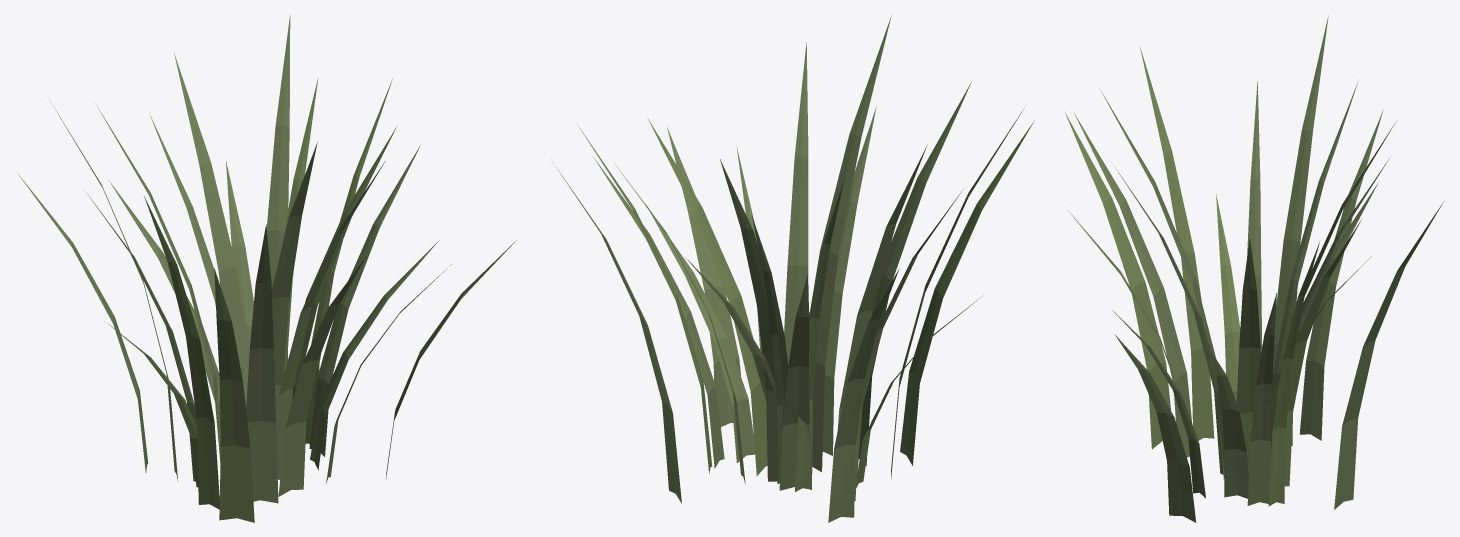
File: NA_Grass_2.glb
3 views of the same model, side by side, from view 1: azimuth 30°, elevation 25°; view 2: azimuth 150°, elevation 25°; view 3: azimuth 270°, elevation 25° (orthographic). The views are drawn at different scales.
Parts seen in each view (by area): view 1: NA_Grass_2; view 2: NA_Grass_2; view 3: NA_Grass_2.
Part boxes in pixels (<box>): NA_Grass_2: <box>16,15,516,522</box>; NA_Grass_2: <box>553,15,1034,522</box>; NA_Grass_2: <box>1064,15,1443,522</box>.
Size of the model in its own units: 0.4433 by 0.4568 by 0.4155.
Materials: 2 (1 with a texture image).
